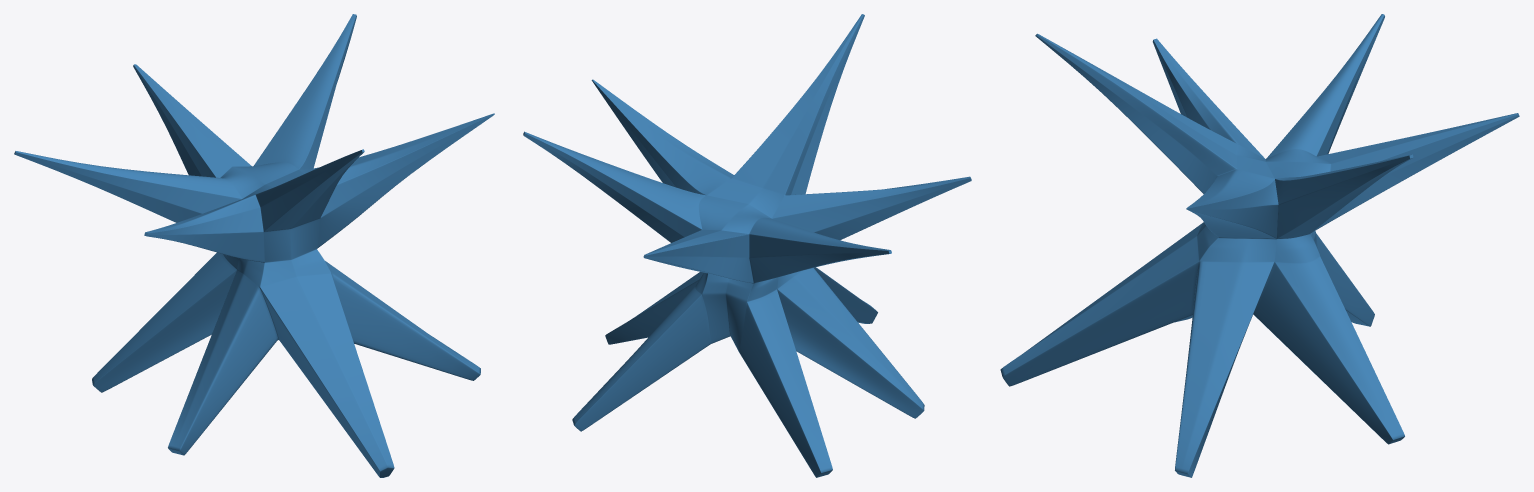
Rendered from Star.FBX.
The picture shows the model from 3 angles, left to right: view 1: azimuth 30°, elevation 25°; view 2: azimuth 150°, elevation 25°; view 3: azimuth 270°, elevation 25°; orthographic projection. The views are drawn at different scales.
Visible parts, largest first — view 1: SuperStar; view 2: SuperStar; view 3: SuperStar.
Part boxes in pixels (box(x1,y1,x2,y2)): SuperStar: box(14, 14, 494, 477); SuperStar: box(523, 14, 971, 477); SuperStar: box(1000, 14, 1519, 477).
Size of the model in its own units: 634 by 503 by 677.
